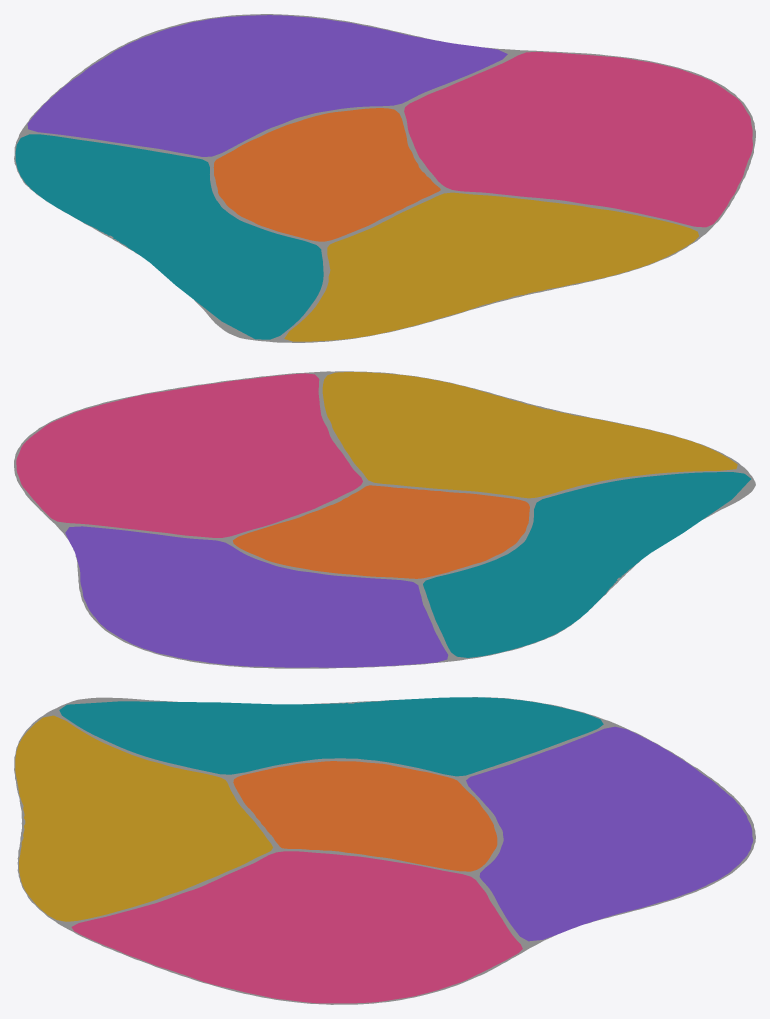
Rendered from zonas_cali.fbx.
3 views of the same model, one above another, from view 1: azimuth 30°, elevation 25°; view 2: azimuth 150°, elevation 25°; view 3: azimuth 270°, elevation 25° (orthographic). The views are drawn at different scales.
Visible parts, largest first — view 1: zona_oriente, zona_norte, zona_sur, zona_oeste, zona_centro, zona_urbana; view 2: zona_oriente, zona_norte, zona_sur, zona_oeste, zona_centro, zona_urbana; view 3: zona_oriente, zona_norte, zona_sur, zona_oeste, zona_centro, zona_urbana.
Boxes of the visible parts, x1,y1,x2,y2 form: zona_oriente: (404, 51, 752, 227); zona_norte: (27, 15, 507, 156); zona_sur: (284, 192, 698, 341); zona_oeste: (15, 134, 323, 339); zona_centro: (213, 108, 440, 241); zona_urbana: (14, 14, 755, 342); zona_oriente: (16, 373, 362, 537); zona_norte: (65, 526, 448, 667); zona_sur: (322, 372, 737, 498); zona_oeste: (423, 472, 750, 657); zona_centro: (233, 485, 529, 578); zona_urbana: (14, 371, 755, 668); zona_oriente: (71, 851, 522, 1003); zona_norte: (466, 726, 753, 941); zona_sur: (15, 715, 272, 921); zona_oeste: (59, 697, 603, 776); zona_centro: (233, 761, 497, 871); zona_urbana: (14, 697, 755, 1004).
Bounding box in the file's own units: 21991 × 2 × 22405.
